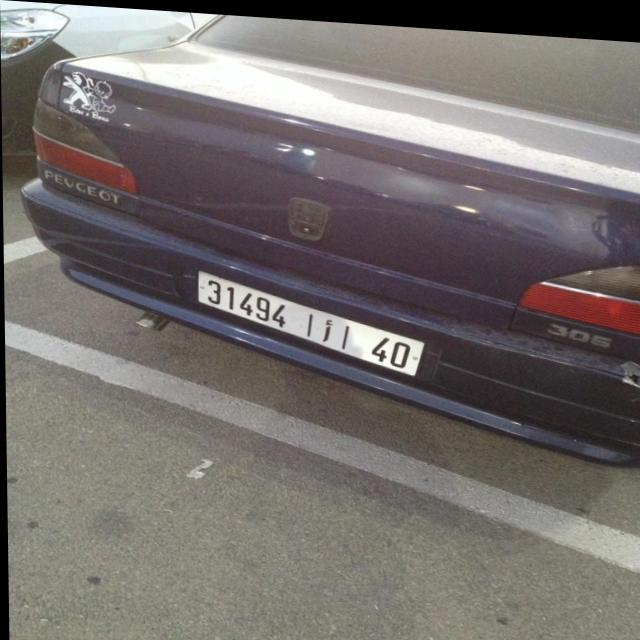License-Plate: (197, 269, 424, 370)
